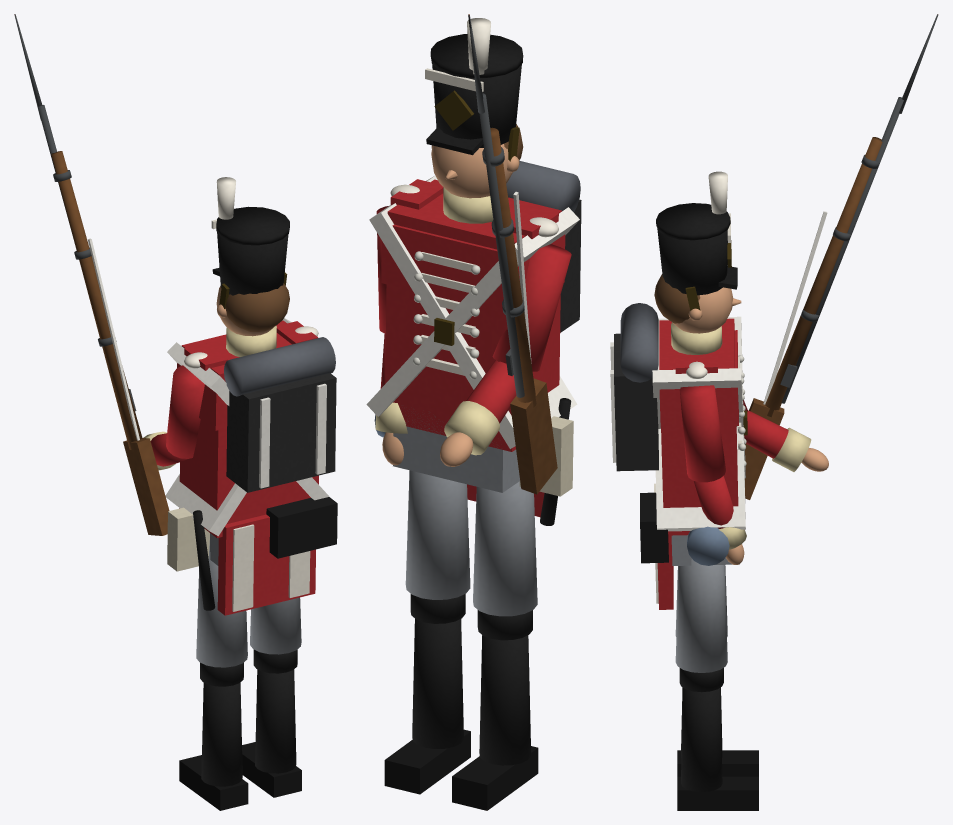
File: soldier_britain.glb
The picture shows the model from 3 angles, left to right: view 1: azimuth 30°, elevation 25°; view 2: azimuth 150°, elevation 25°; view 3: azimuth 270°, elevation 25°; orthographic projection. The views are drawn at different scales.
Visible parts, largest first — view 1: soldier_britain; view 2: soldier_britain; view 3: soldier_britain.
Boxes of the visible parts, <box> form: soldier_britain: <box>14,14,337,810</box>; soldier_britain: <box>366,14,581,810</box>; soldier_britain: <box>610,14,938,810</box>.
Bounding box in the file's own units: 0.681 × 2.44 × 1.01.
Materials: 1 (1 with a texture image).
